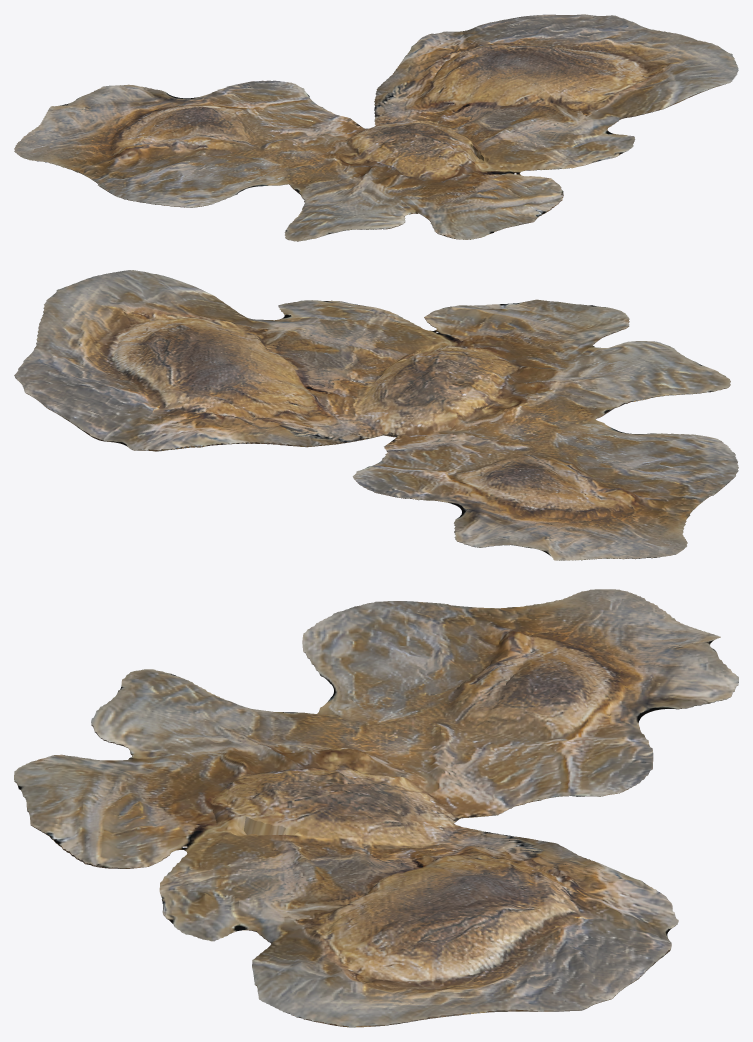
File: asset.glb
3 views of the same model, one above another, from view 1: azimuth 30°, elevation 25°; view 2: azimuth 150°, elevation 25°; view 3: azimuth 270°, elevation 25° (orthographic). The views are drawn at different scales.
Visible parts, largest first — view 1: model_594898559379; view 2: model_594898559379; view 3: model_594898559379.
Boxes of the visible parts, x1,y1,x2,y2 form: model_594898559379: (14, 14, 738, 241); model_594898559379: (14, 270, 738, 560); model_594898559379: (14, 589, 738, 1027).
Size of the model in its own units: 3.83 by 0.2489 by 2.59.
Materials: 1 (1 with a texture image).
